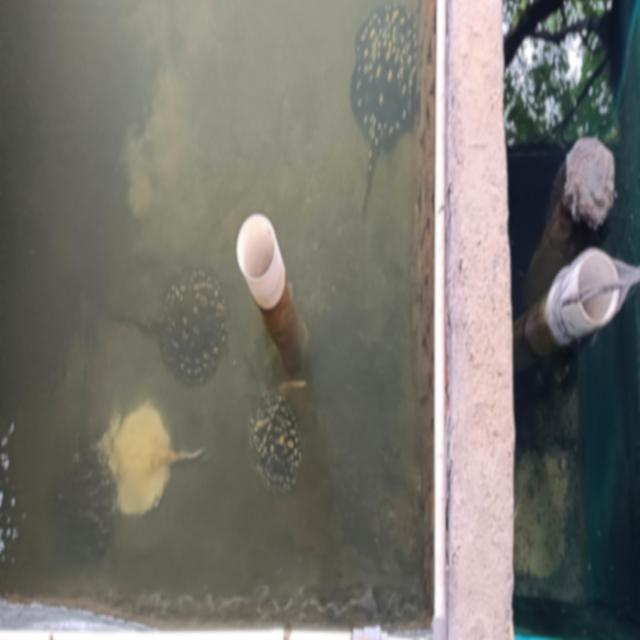black-diamond-sting-ray: (107, 217, 235, 414), (345, 4, 432, 238)
